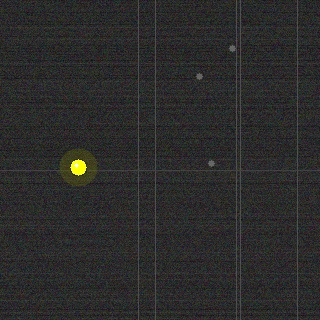yellow_warning: (68, 157, 88, 177)
